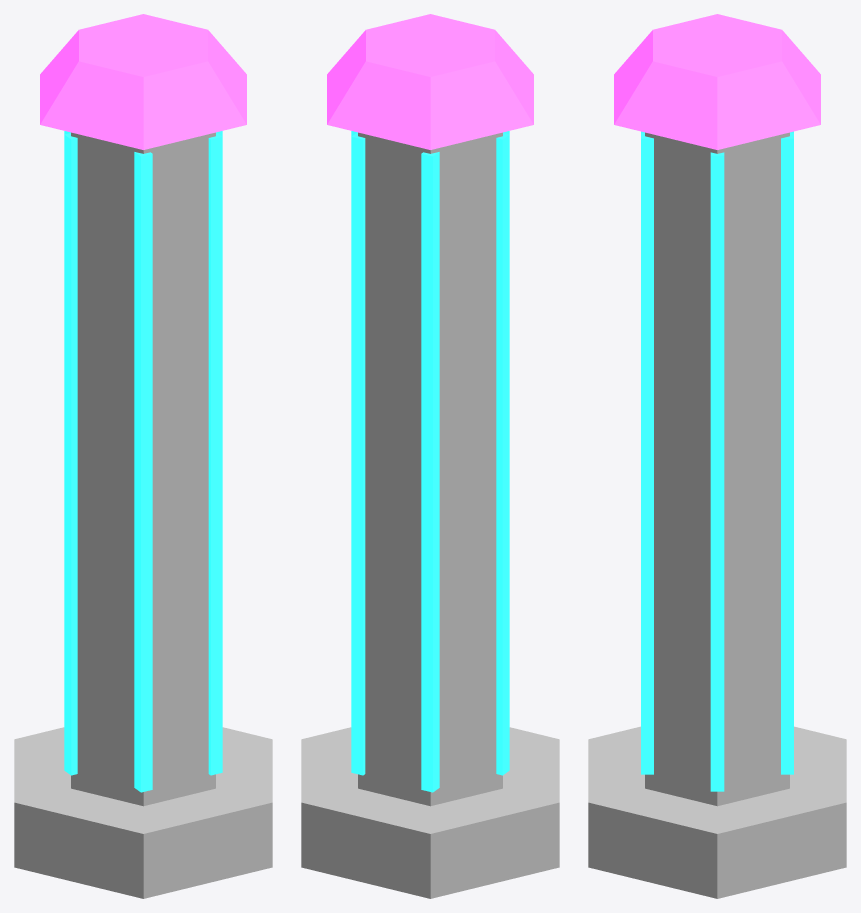
3 views of the same model, side by side, from view 1: azimuth 30°, elevation 25°; view 2: azimuth 150°, elevation 25°; view 3: azimuth 270°, elevation 25° (orthographic).
Parts seen in each view (by area): view 1: Neon_NeonPillar_Simple; view 2: Neon_NeonPillar_Simple; view 3: Neon_NeonPillar_Simple.
Part boxes in pixels (left/top/right/bottom): Neon_NeonPillar_Simple: left=14, top=14, right=272, bottom=898; Neon_NeonPillar_Simple: left=301, top=14, right=559, bottom=898; Neon_NeonPillar_Simple: left=588, top=14, right=846, bottom=898.
Bounding box in the file's own units: 1 × 2.92 × 0.866.
